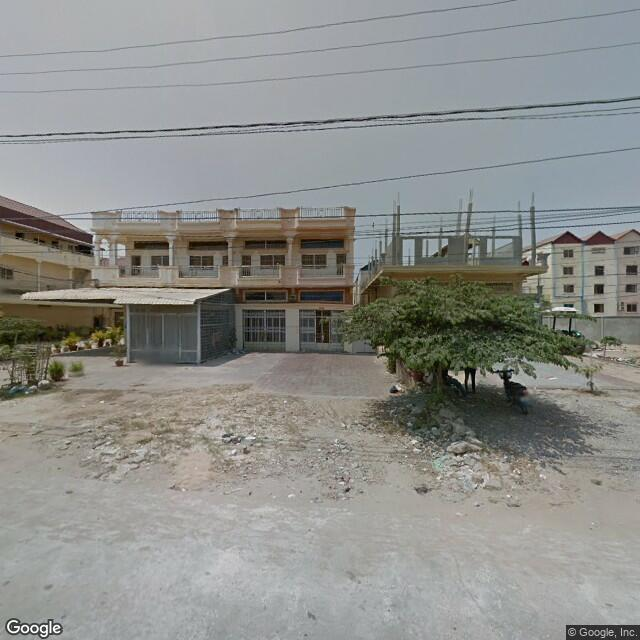litter: (213, 432, 259, 454), (474, 474, 516, 493), (444, 441, 486, 459), (412, 480, 433, 496)
